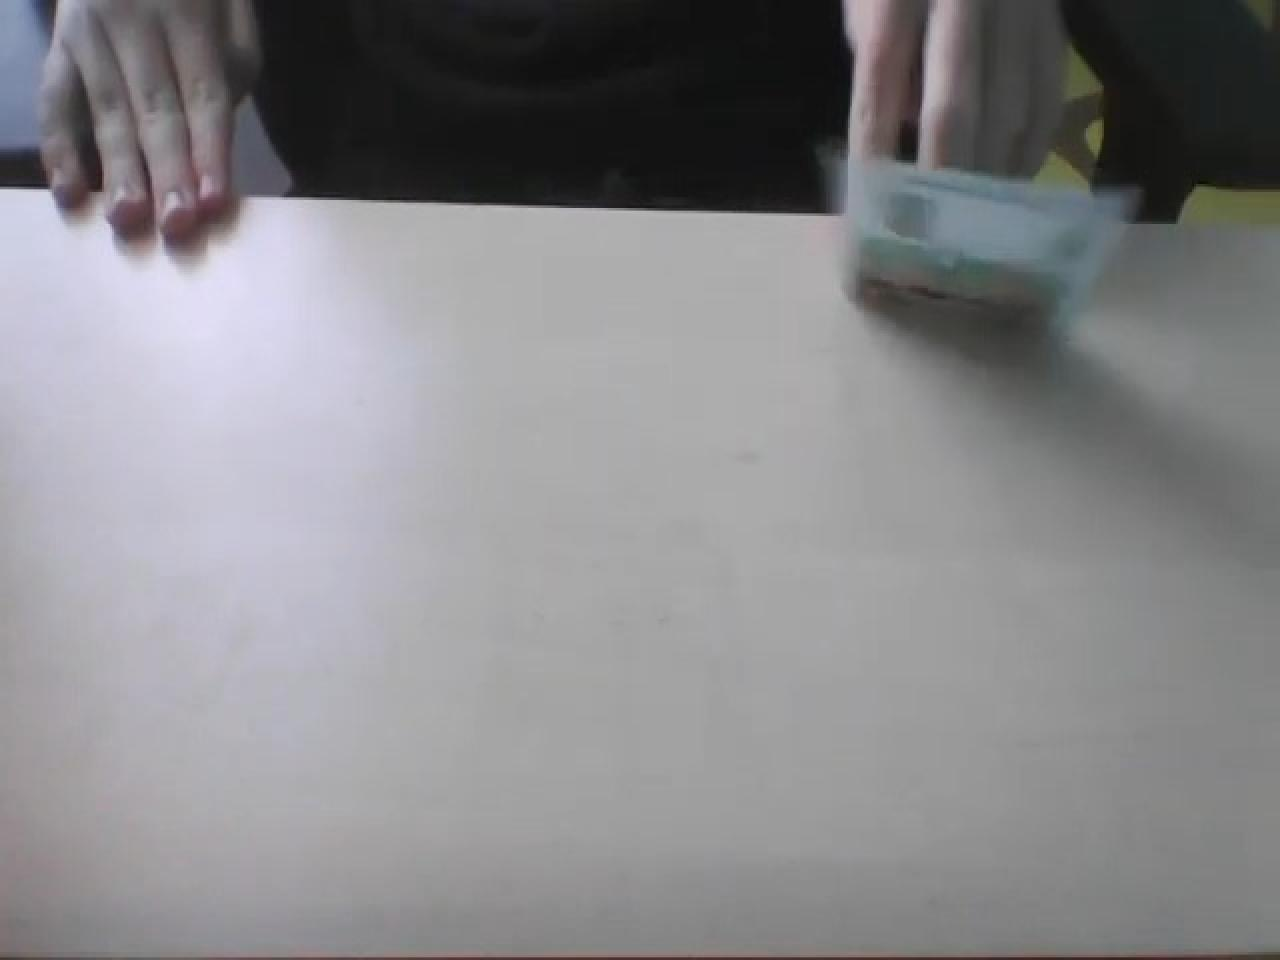100leva: (842, 147, 1136, 336)
